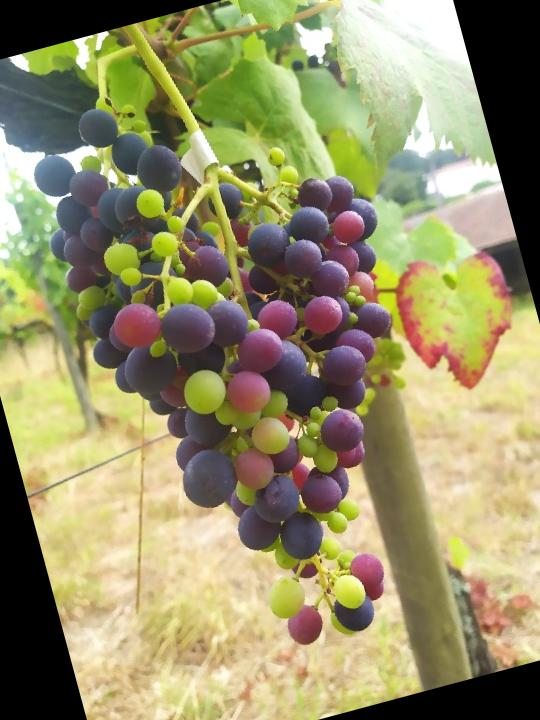grape: (11, 32, 486, 691)
